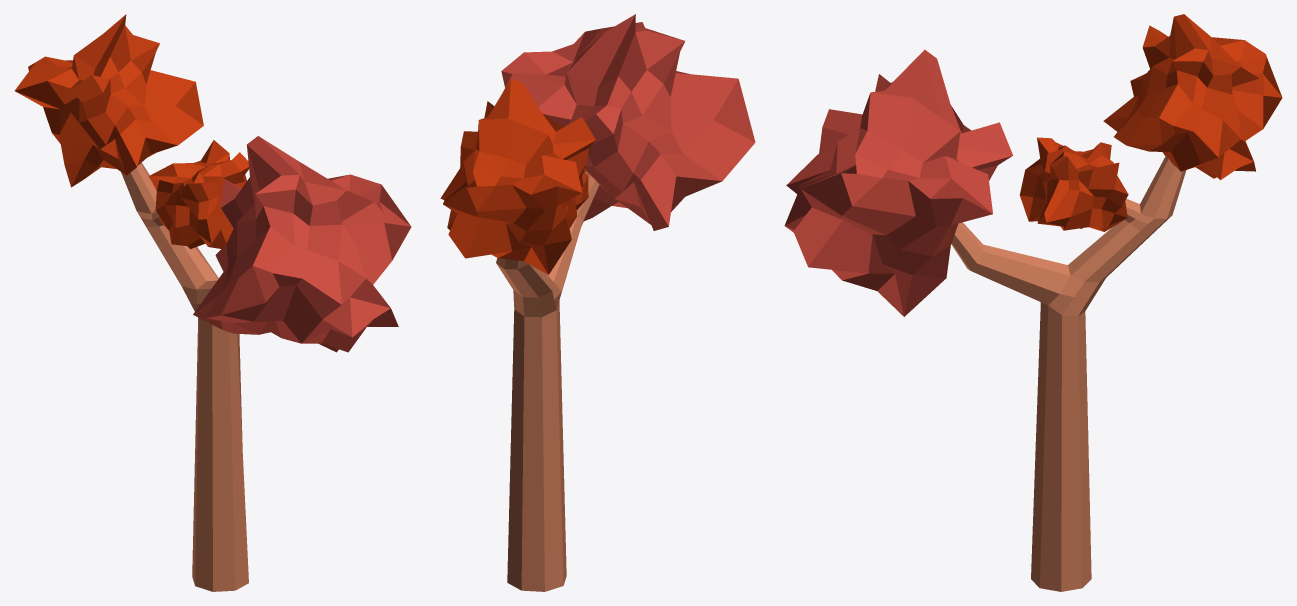
The model's file is Tree_03_summer_red_mat.fbx.
3 views of the same model, side by side, from view 1: azimuth 30°, elevation 25°; view 2: azimuth 150°, elevation 25°; view 3: azimuth 270°, elevation 25° (orthographic). The views are drawn at different scales.
Parts seen in each view (by area): view 1: Tree_03_summer_red_mat; view 2: Tree_03_summer_red_mat; view 3: Tree_03_summer_red_mat.
Boxes of the visible parts, x1,y1,x2,y2 form: Tree_03_summer_red_mat: [14, 14, 411, 591]; Tree_03_summer_red_mat: [440, 14, 755, 591]; Tree_03_summer_red_mat: [784, 14, 1282, 591].
Size of the model in its own units: 77.81 by 178 by 146.
